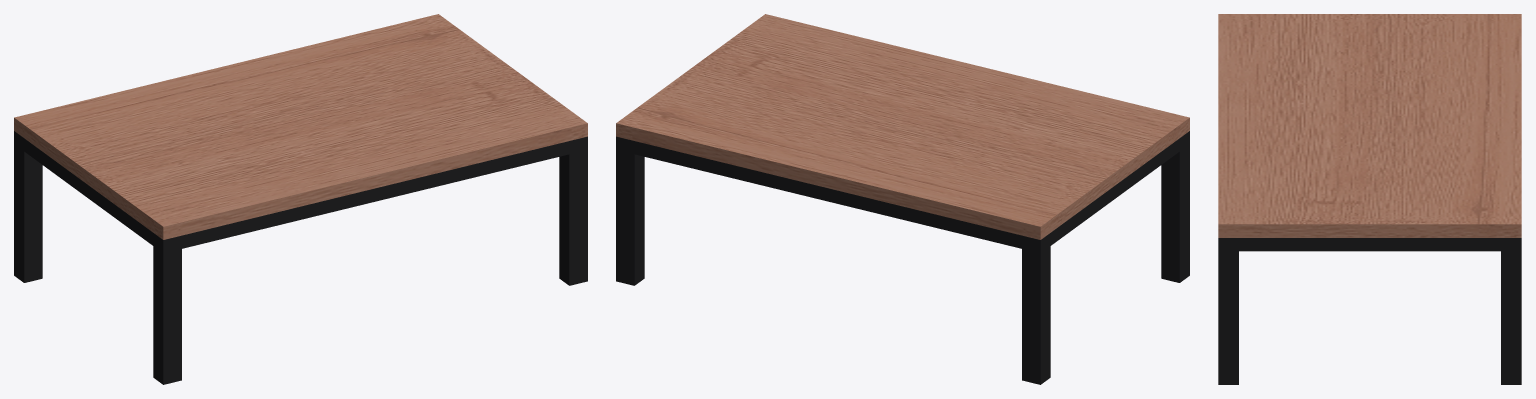
Rendered from desk_low.fbx.
3 renders of one model, left to right at view 1: azimuth 30°, elevation 25°; view 2: azimuth 150°, elevation 25°; view 3: azimuth 270°, elevation 25°, orthographic.
Parts seen in each view (by area): view 1: desk_low; view 2: desk_low; view 3: desk_low.
Boxes of the visible parts, x1,y1,x2,y2 form: desk_low: (14, 14, 587, 384); desk_low: (616, 14, 1189, 384); desk_low: (1218, 14, 1521, 384).
Bounding box in the file's own units: 0.00835 × 0.00297 × 0.00509.
Materials: 1 (1 with a texture image).
